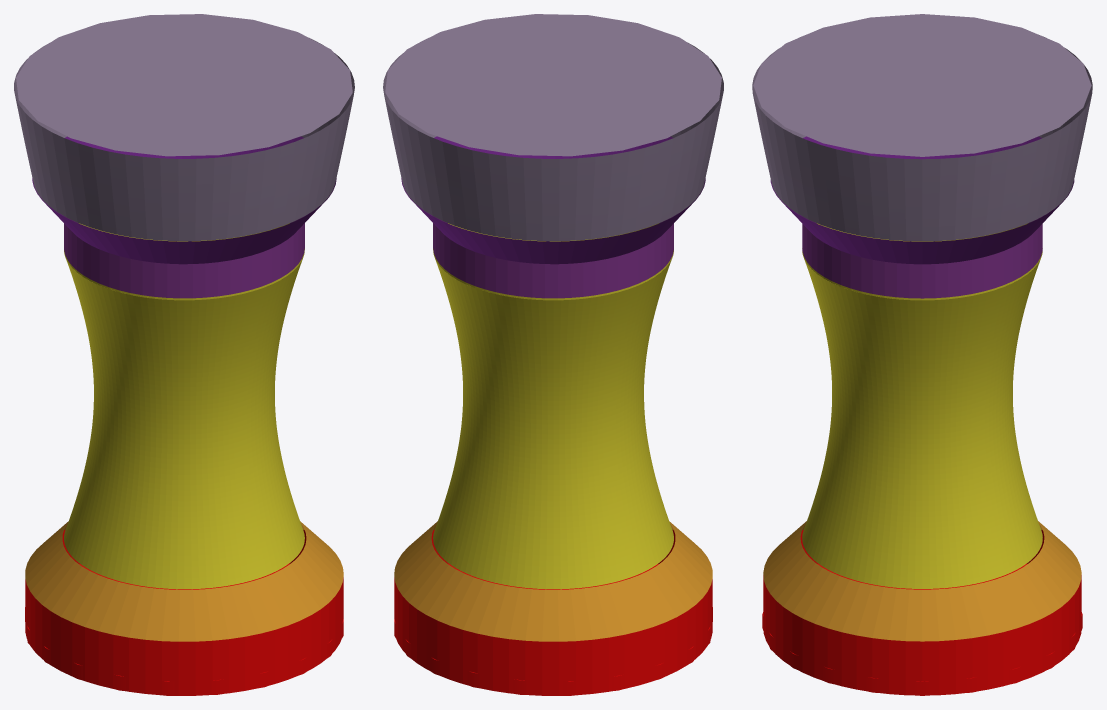
Rendered from torre.fbx.
3 renders of one model, left to right at view 1: azimuth 30°, elevation 25°; view 2: azimuth 150°, elevation 25°; view 3: azimuth 270°, elevation 25°, orthographic.
Parts seen in each view (by area): view 1: torre:object, pCylinder1, pasted__pCylinder1; view 2: torre:object, pCylinder1, pasted__pCylinder1; view 3: torre:object, pCylinder1, pasted__pCylinder1.
Part boxes in pixels (x1,y1,x2,y2): torre:object: [14, 39, 354, 695]; pCylinder1: [16, 14, 352, 156]; pasted__pCylinder1: [25, 563, 343, 695]; torre:object: [383, 39, 723, 695]; pCylinder1: [385, 14, 721, 156]; pasted__pCylinder1: [394, 563, 712, 695]; torre:object: [752, 36, 1092, 695]; pCylinder1: [753, 14, 1091, 156]; pasted__pCylinder1: [762, 563, 1082, 695].
Size of the model in its own units: 8.55 by 15.05 by 8.56.
